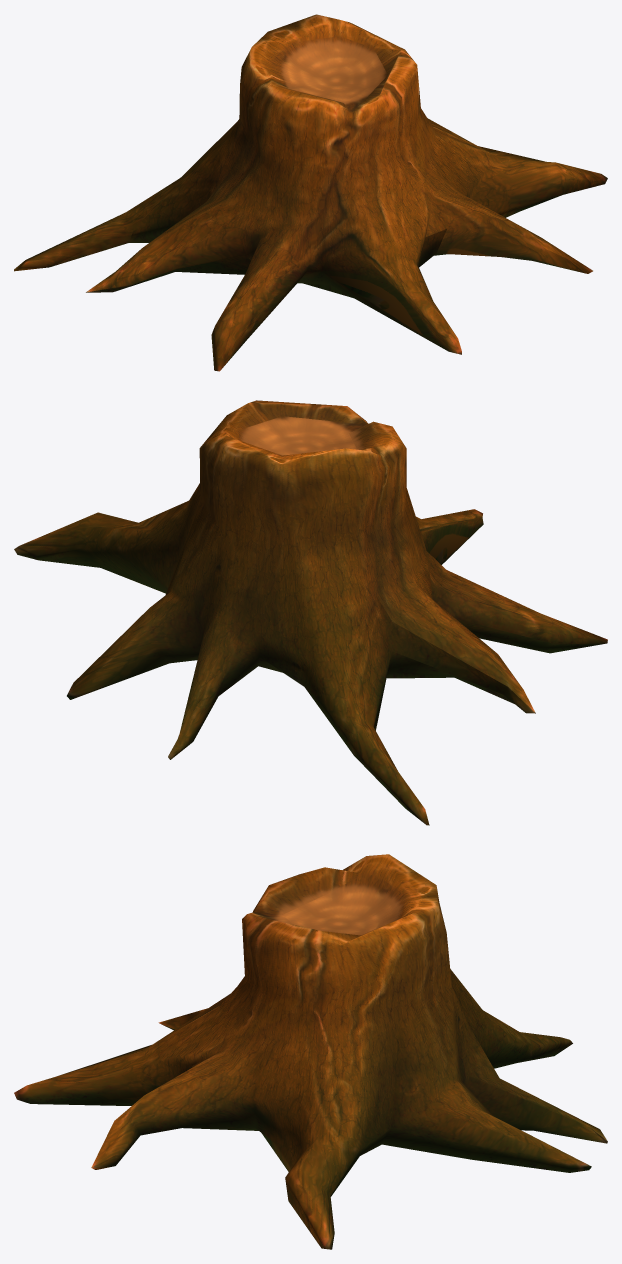
The model's file is VEG0210001.fbx.
3 renders of one model, top to bottom at view 1: azimuth 30°, elevation 25°; view 2: azimuth 150°, elevation 25°; view 3: azimuth 270°, elevation 25°, orthographic. The views are drawn at different scales.
Parts seen in each view (by area): view 1: smVEG0210001; view 2: smVEG0210001; view 3: smVEG0210001.
Part boxes in pixels (x1,y1,x2,y2): smVEG0210001: (14,14,607,371); smVEG0210001: (14,400,607,825); smVEG0210001: (14,854,607,1249).
Bounding box in the file's own units: 241 × 113 × 222.
Materials: 1 (1 with a texture image).
